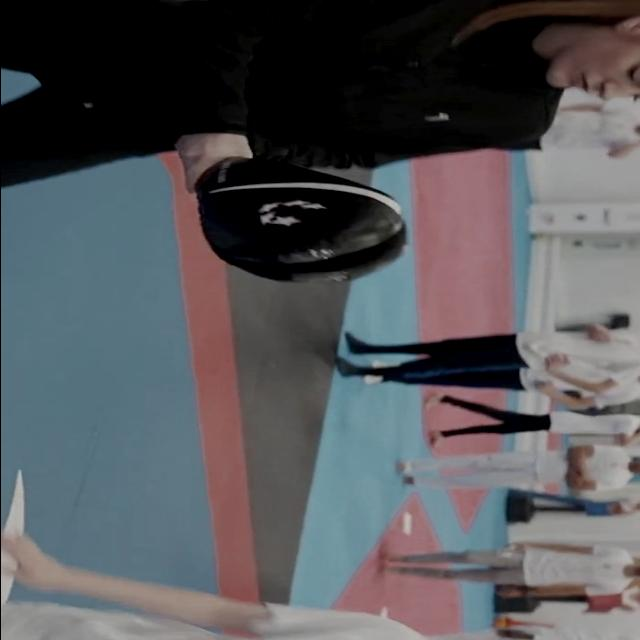paddle: (188, 156, 412, 288)
